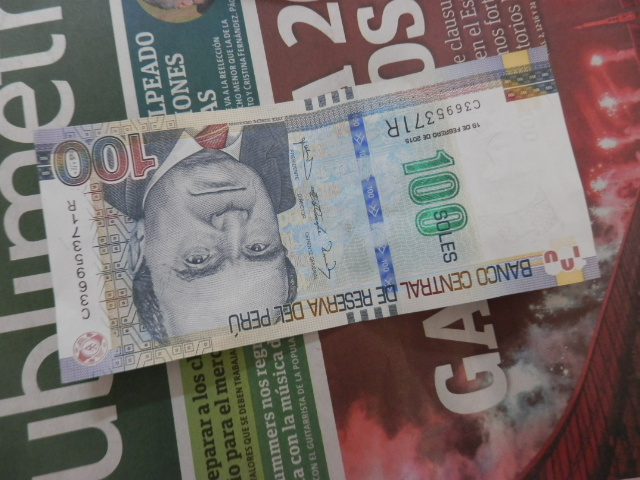B100: (32, 91, 609, 376)
